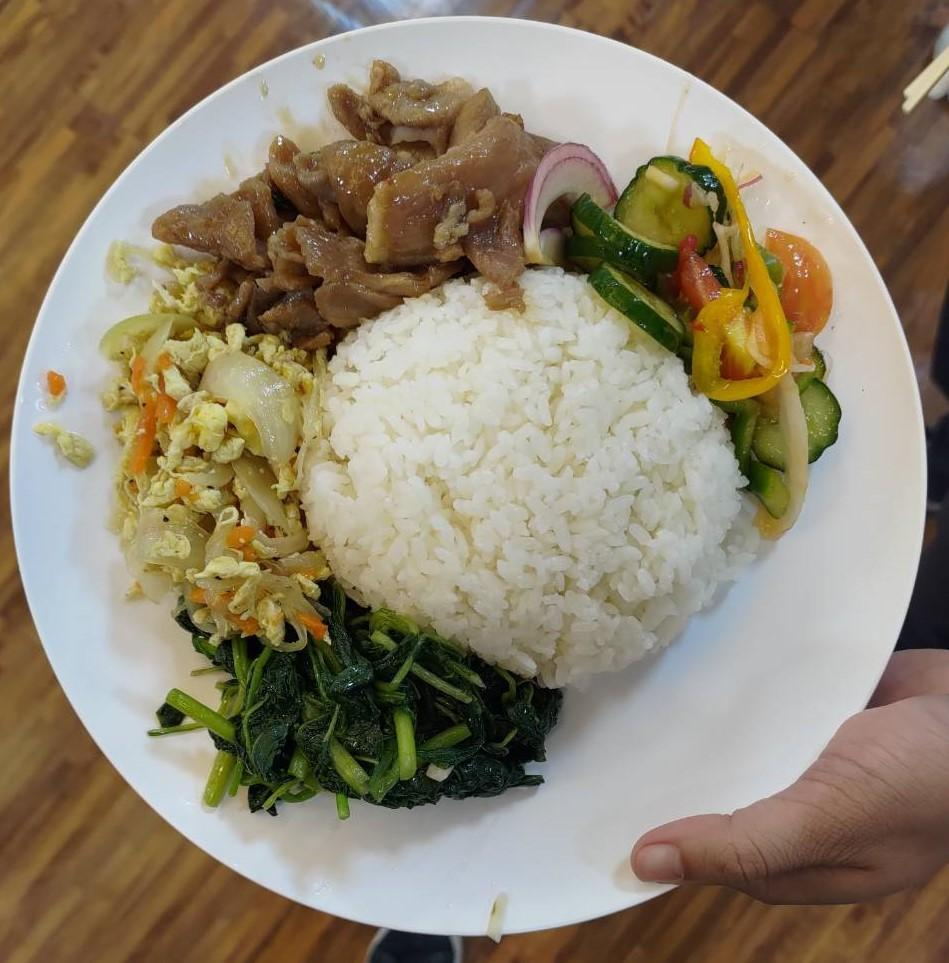big fried chicken leg: (16, 22, 949, 945)
braised fish fillet: (524, 124, 842, 526), (155, 590, 555, 820), (95, 287, 320, 650)
braised pork: (151, 50, 538, 346)
